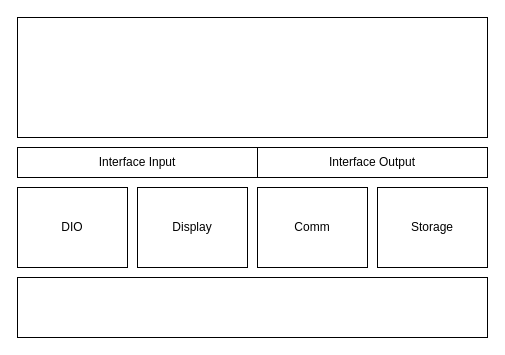
Image size: 505x355. Some labels were removed from this diagram. Each missing label, with the box of its shape:
CORE (Controlling and Processing): (16, 16, 488, 138)
HAL library: (16, 276, 488, 338)
